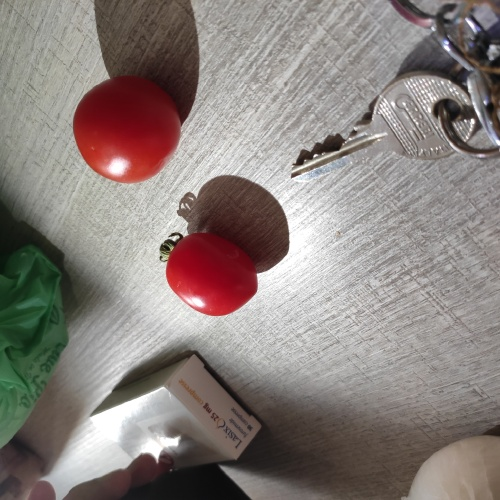pomodoro: (66, 68, 192, 190), (158, 227, 262, 324)
